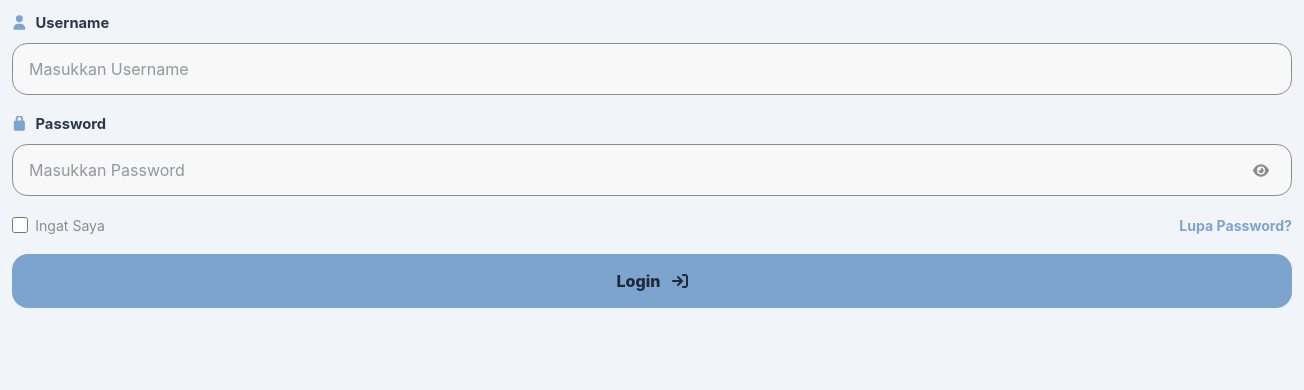
it: login components › submits login and saves auth session
Type "admin.demo" into the field labelled "Username".
click(652, 69); type("admin.demo")  # box top-left (12, 43), bottom-right (1292, 95)
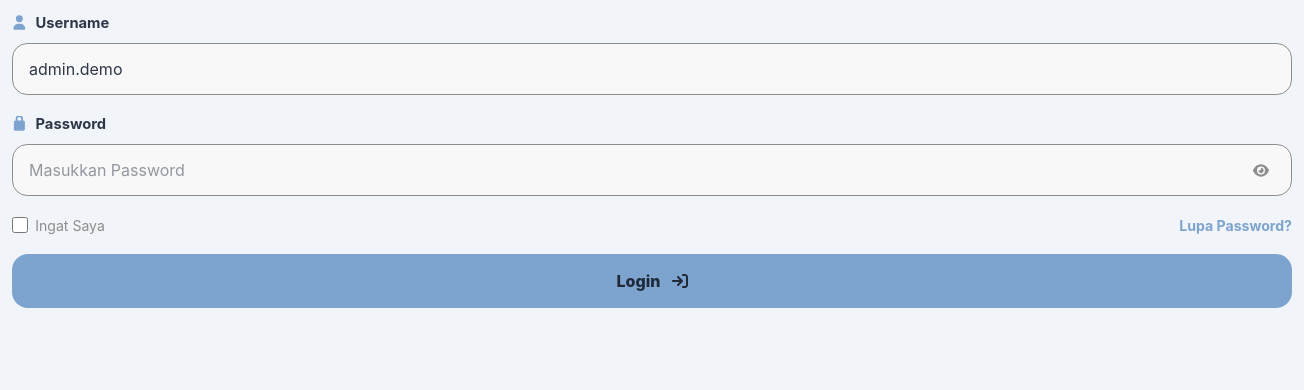
Type "secret" into the password field labelled "Password".
click(652, 170); type("secret")  # box top-left (12, 144), bottom-right (1292, 196)
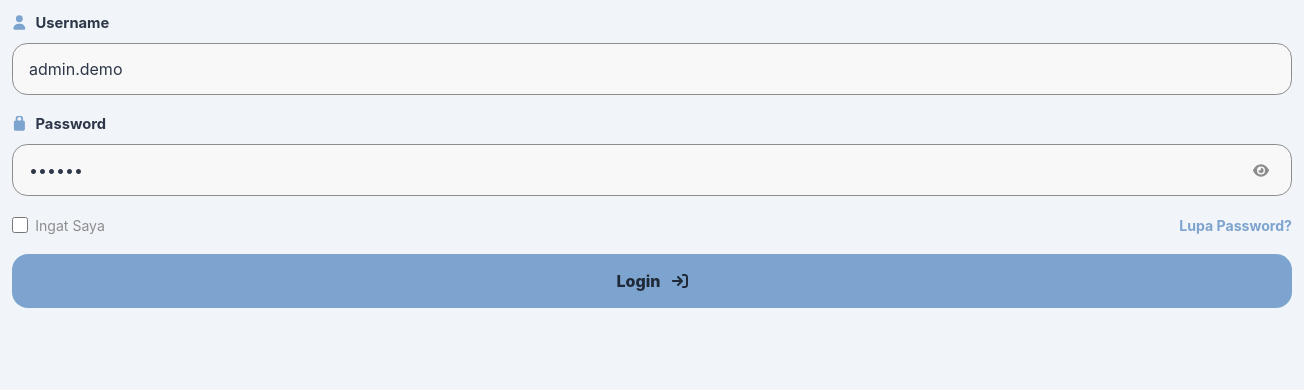
Click the button "Login".
click(652, 281)  # box top-left (12, 254), bottom-right (1292, 308)
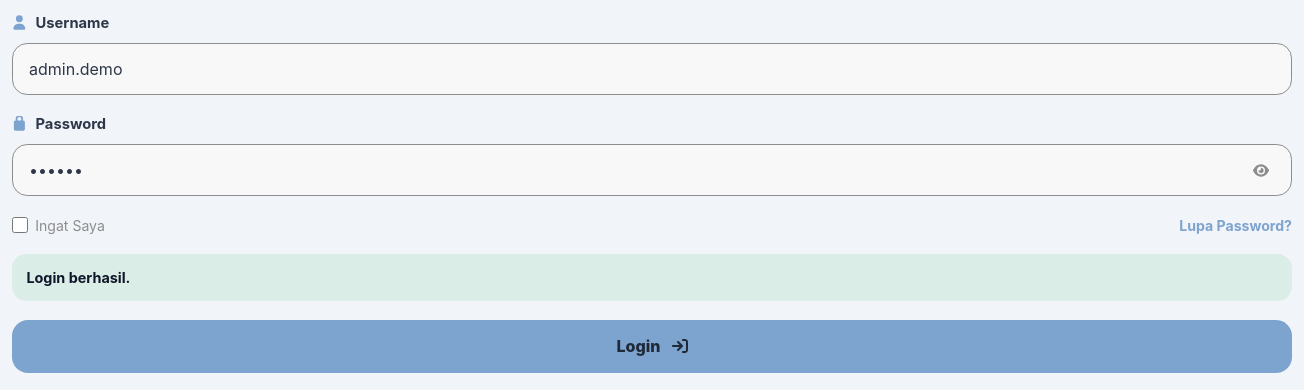
Check: the text "Login berhasil." is shown, box top-left (12, 254), bottom-right (1292, 301)
